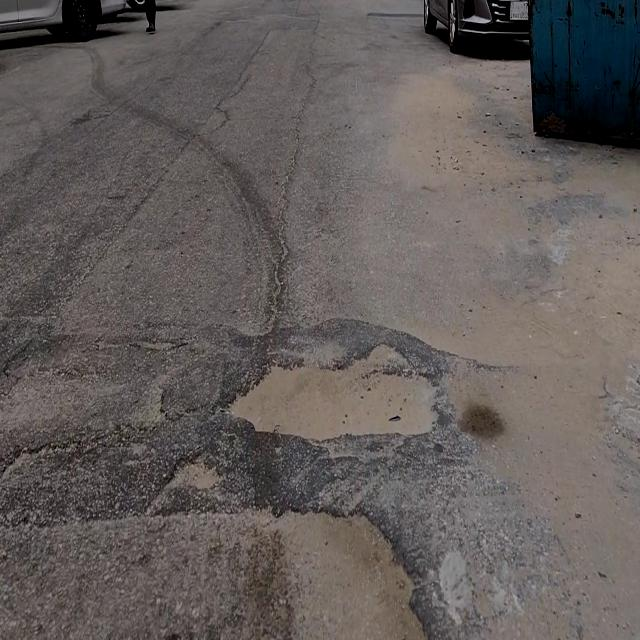Potholes: (226, 340, 444, 449), (280, 497, 431, 640)
